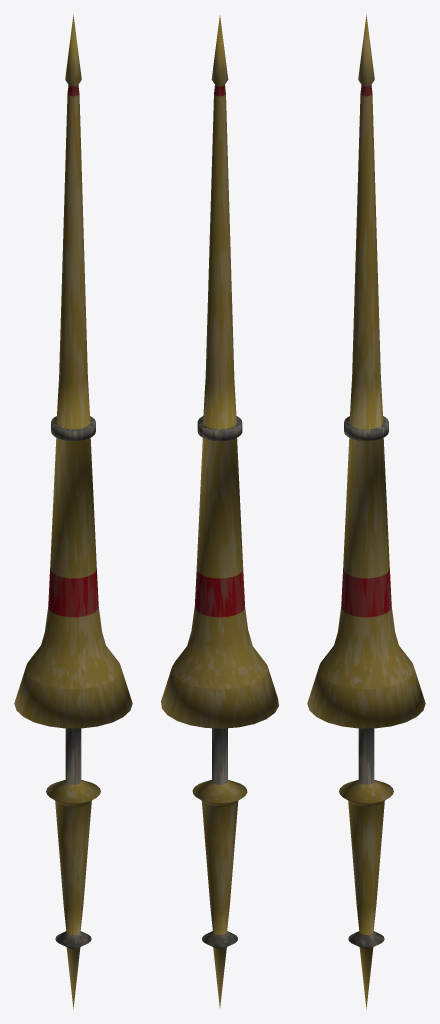
File: Lanza.fbx
The picture shows the model from 3 angles, left to right: view 1: azimuth 90°, elevation 25°; view 2: azimuth 150°, elevation 25°; view 3: azimuth 270°, elevation 25°; orthographic projection.
Parts seen in each view (by area): view 1: Lanza; view 2: Lanza; view 3: Lanza.
Boxes of the visible parts, x1,y1,x2,y2 form: Lanza: (14,14,132,1009); Lanza: (161,15,278,1007); Lanza: (307,14,425,1009).
Size of the model in its own units: 0.5331 by 4.99 by 0.5385.
